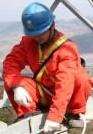boots: (1, 1, 1, 1)
gloves: (11, 84, 30, 106), (41, 120, 58, 134)
hard-hat: (20, 0, 54, 35)
ppe-suit: (1, 30, 93, 125)
vest: (1, 0, 1, 1)
